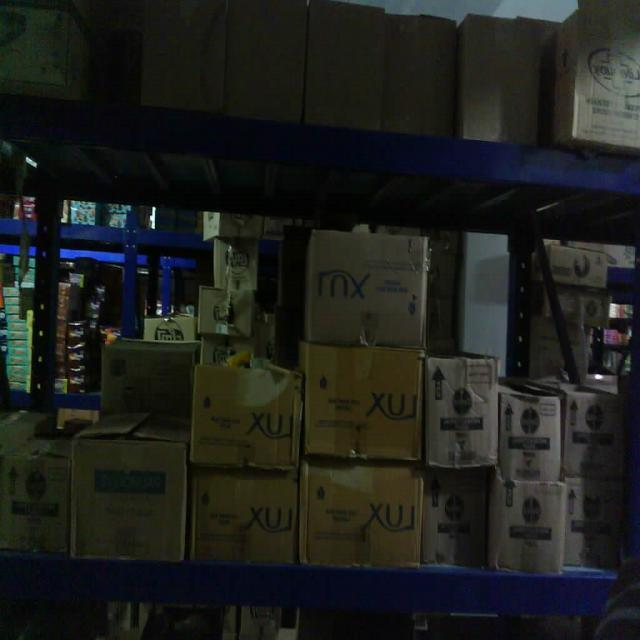cardboxes: (67, 435, 187, 562), (302, 230, 430, 344), (302, 344, 424, 462), (296, 462, 421, 564), (188, 360, 298, 467), (456, 13, 546, 142), (185, 469, 302, 563), (298, 3, 384, 130), (570, 0, 640, 146), (423, 350, 498, 470), (489, 481, 564, 574), (421, 472, 492, 566), (498, 393, 564, 480), (561, 478, 624, 568), (561, 392, 626, 478)
